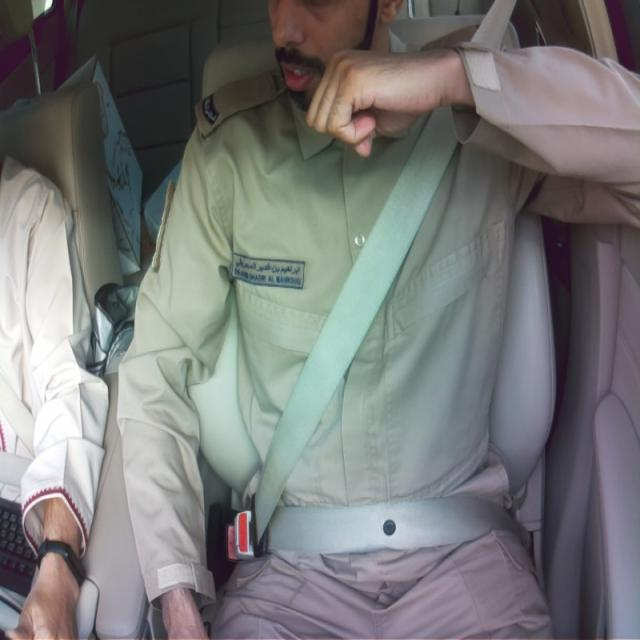seatbelt: (252, 108, 522, 554)
